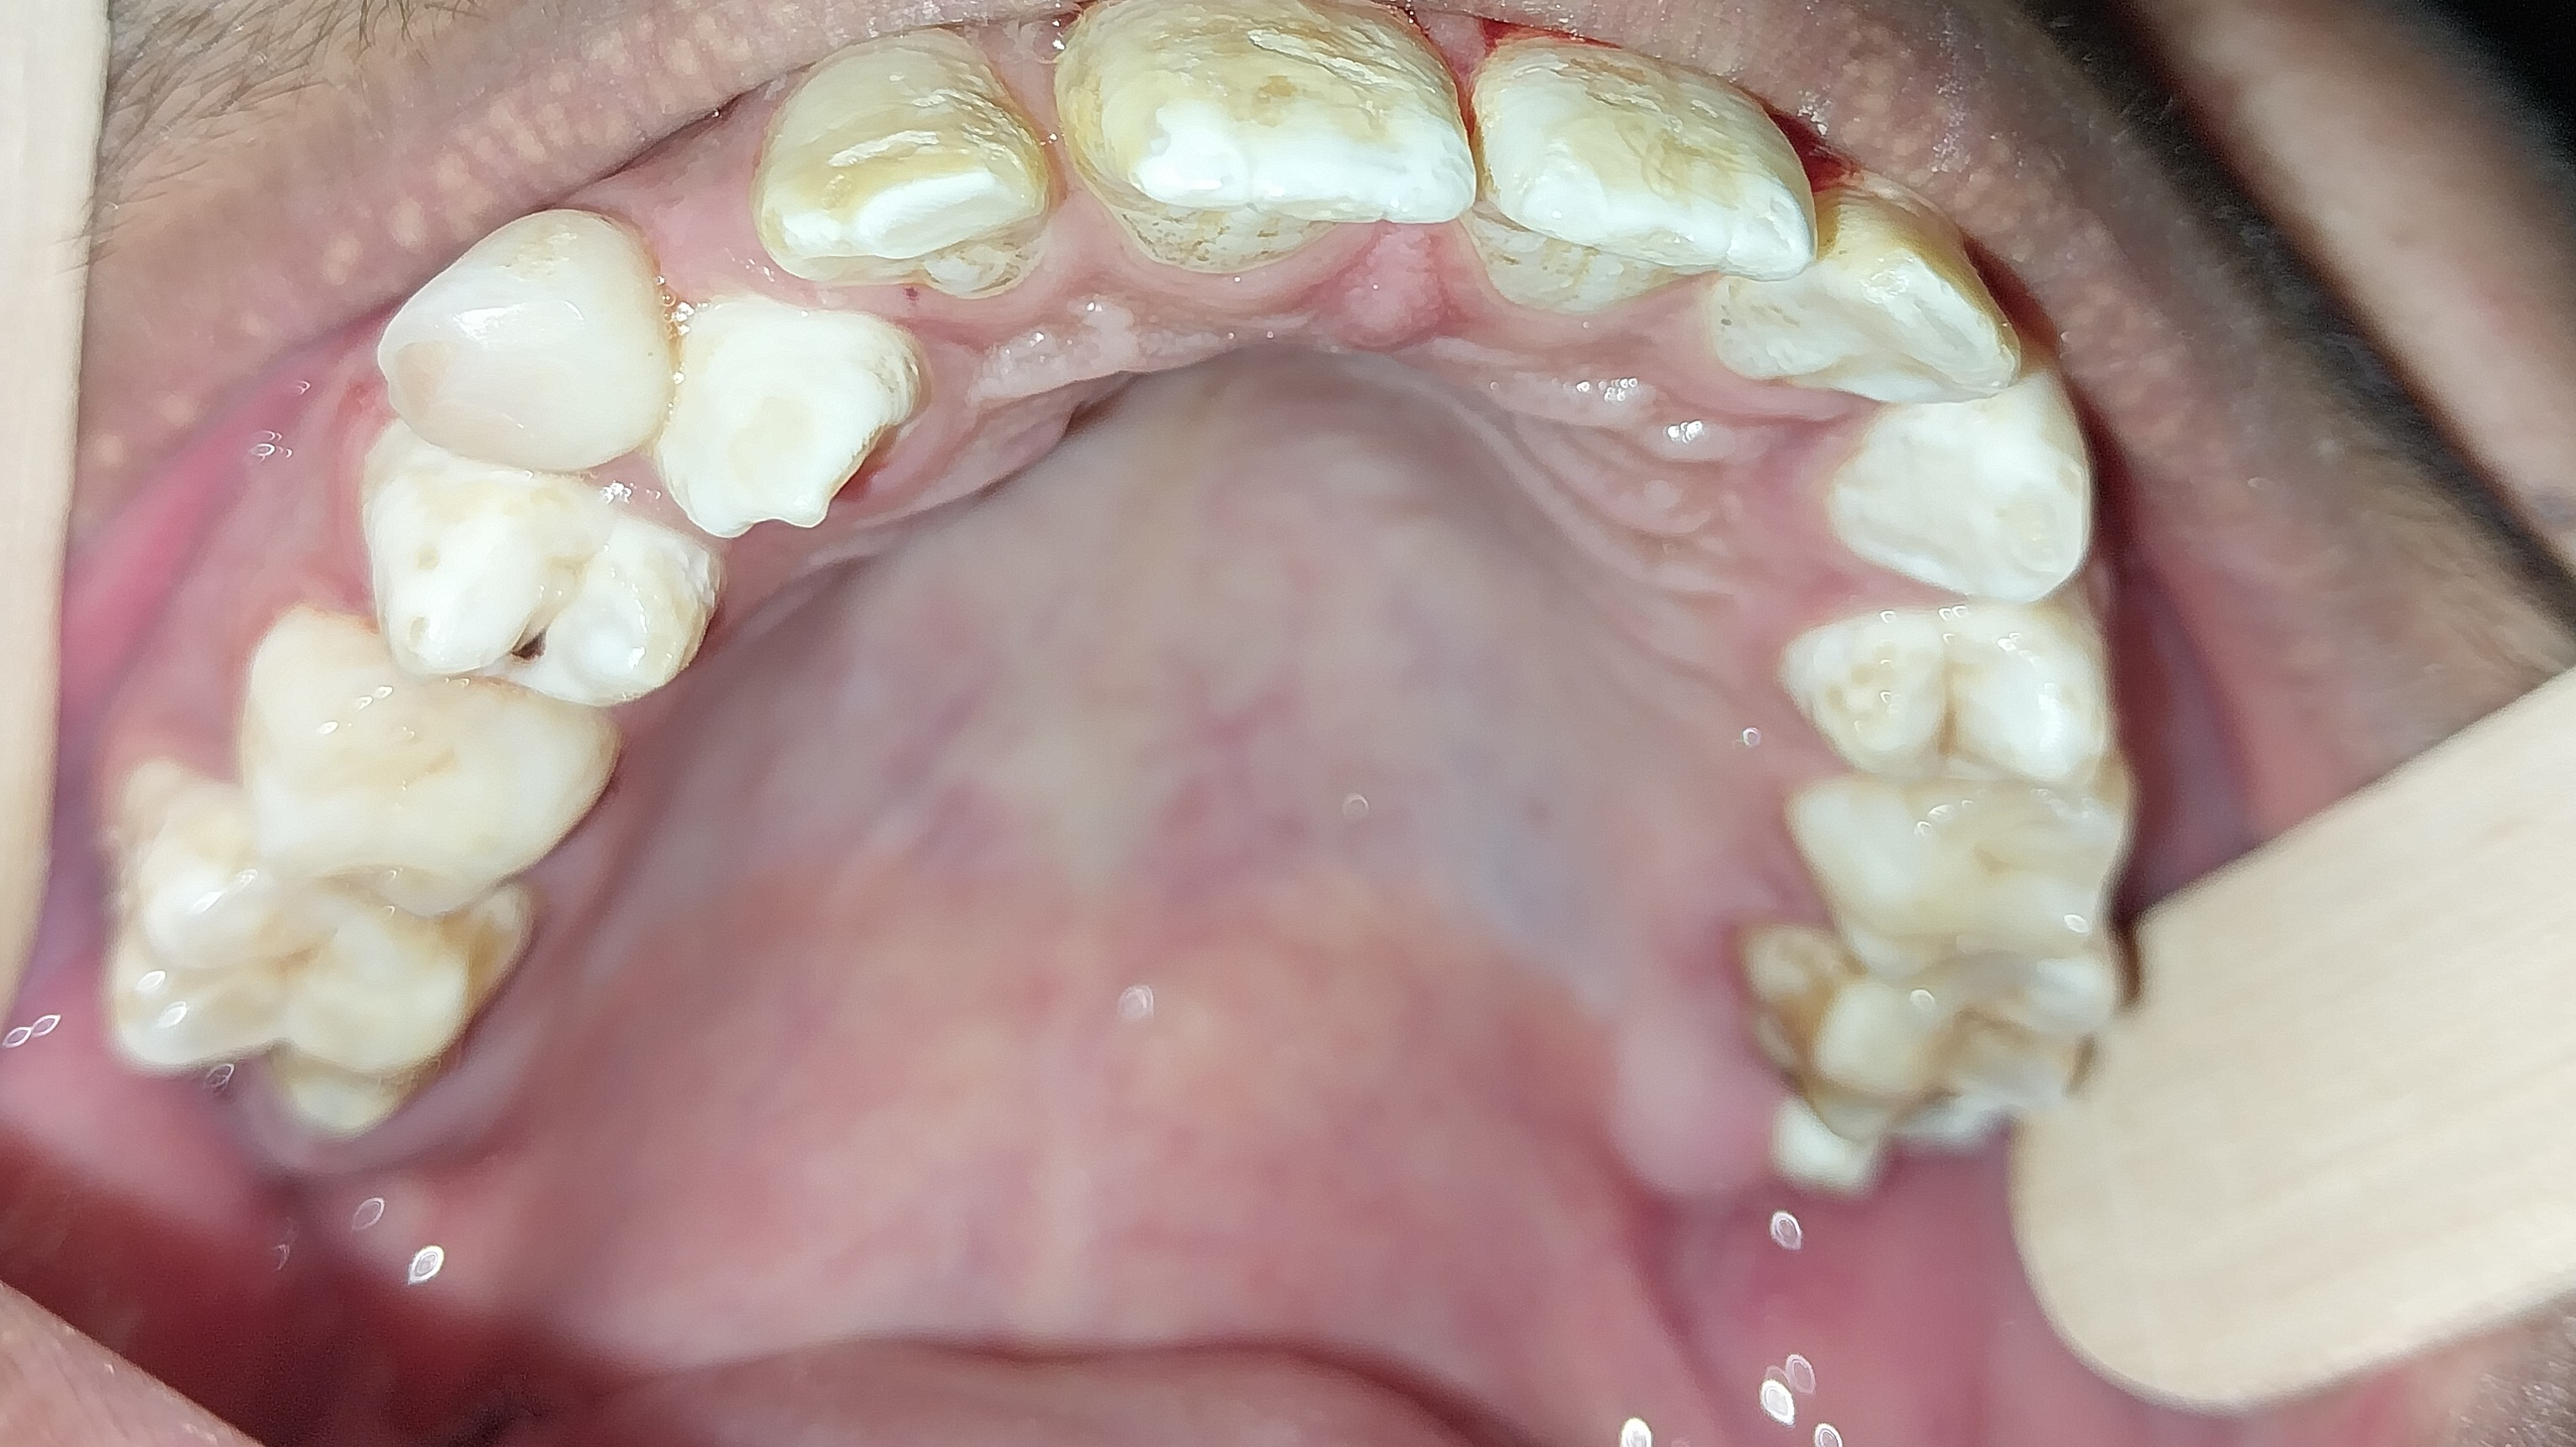D: (349, 429, 725, 713)
